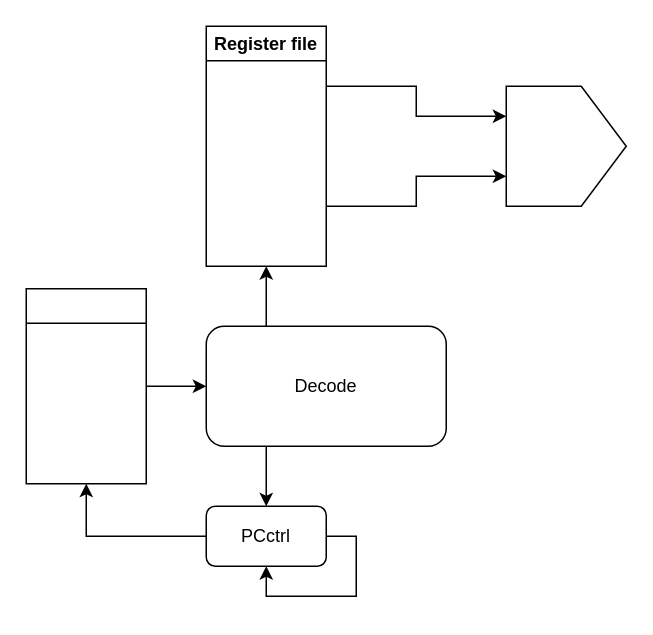
This 653x635 diagram has some shape labels left out. The centre of each missing label's shape, as x and y in pixels:
ALU: point (565, 145)
Fetch: point (85, 385)
